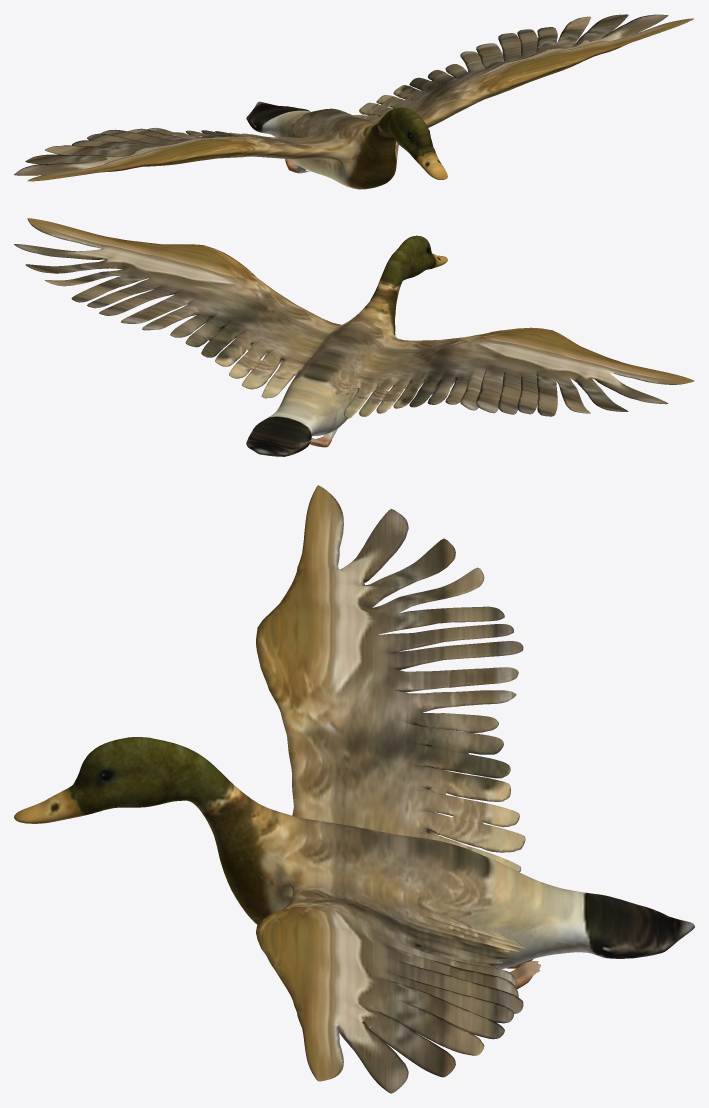
File: white-fronted goose.gltf
3 renders of one model, top to bottom at view 1: azimuth 30°, elevation 25°; view 2: azimuth 150°, elevation 25°; view 3: azimuth 270°, elevation 25°, orthographic. The views are drawn at different scales.
Visible parts, largest first — view 1: mallard; view 2: mallard; view 3: mallard.
Part boxes in pixels (x1,y1,x2,y2): mallard: (14,14,694,189); mallard: (14,218,694,456); mallard: (14,485,694,1093).
Bounding box in the file's own units: 2.84 × 0.5274 × 1.37.
1 material, 1 textured.
